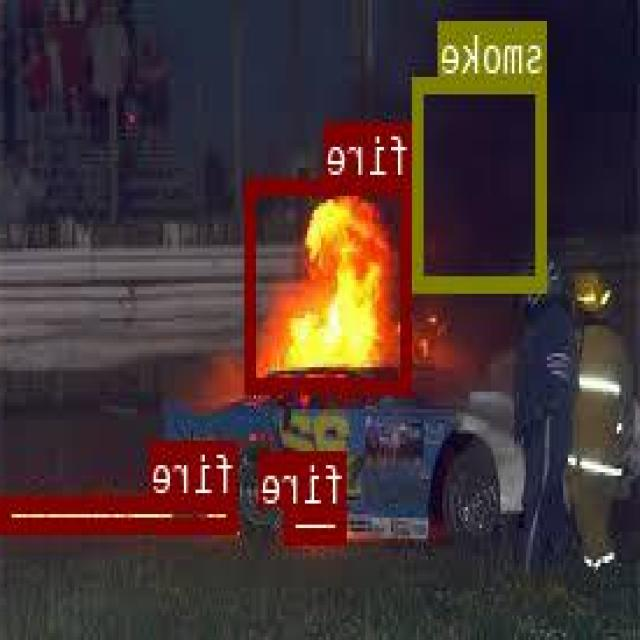fire: (248, 176, 412, 389), (5, 495, 238, 528), (288, 506, 347, 540)
smoke: (415, 75, 549, 288)
